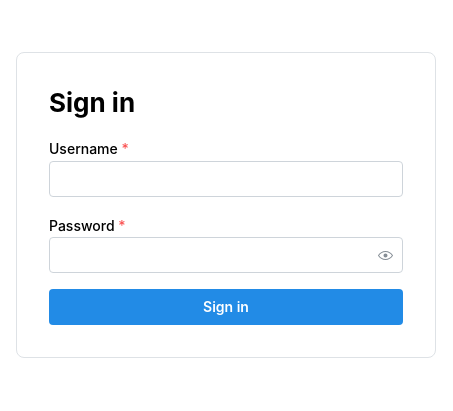
Test: SignInPage › blocks submission and shows an error when fields are empty
Click the button "Sign in" at (226, 307), box [49,289,403,325]
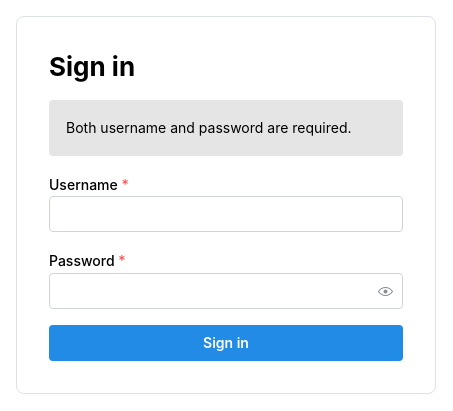
expect the message shows "required": met, box [66,119,352,136]
